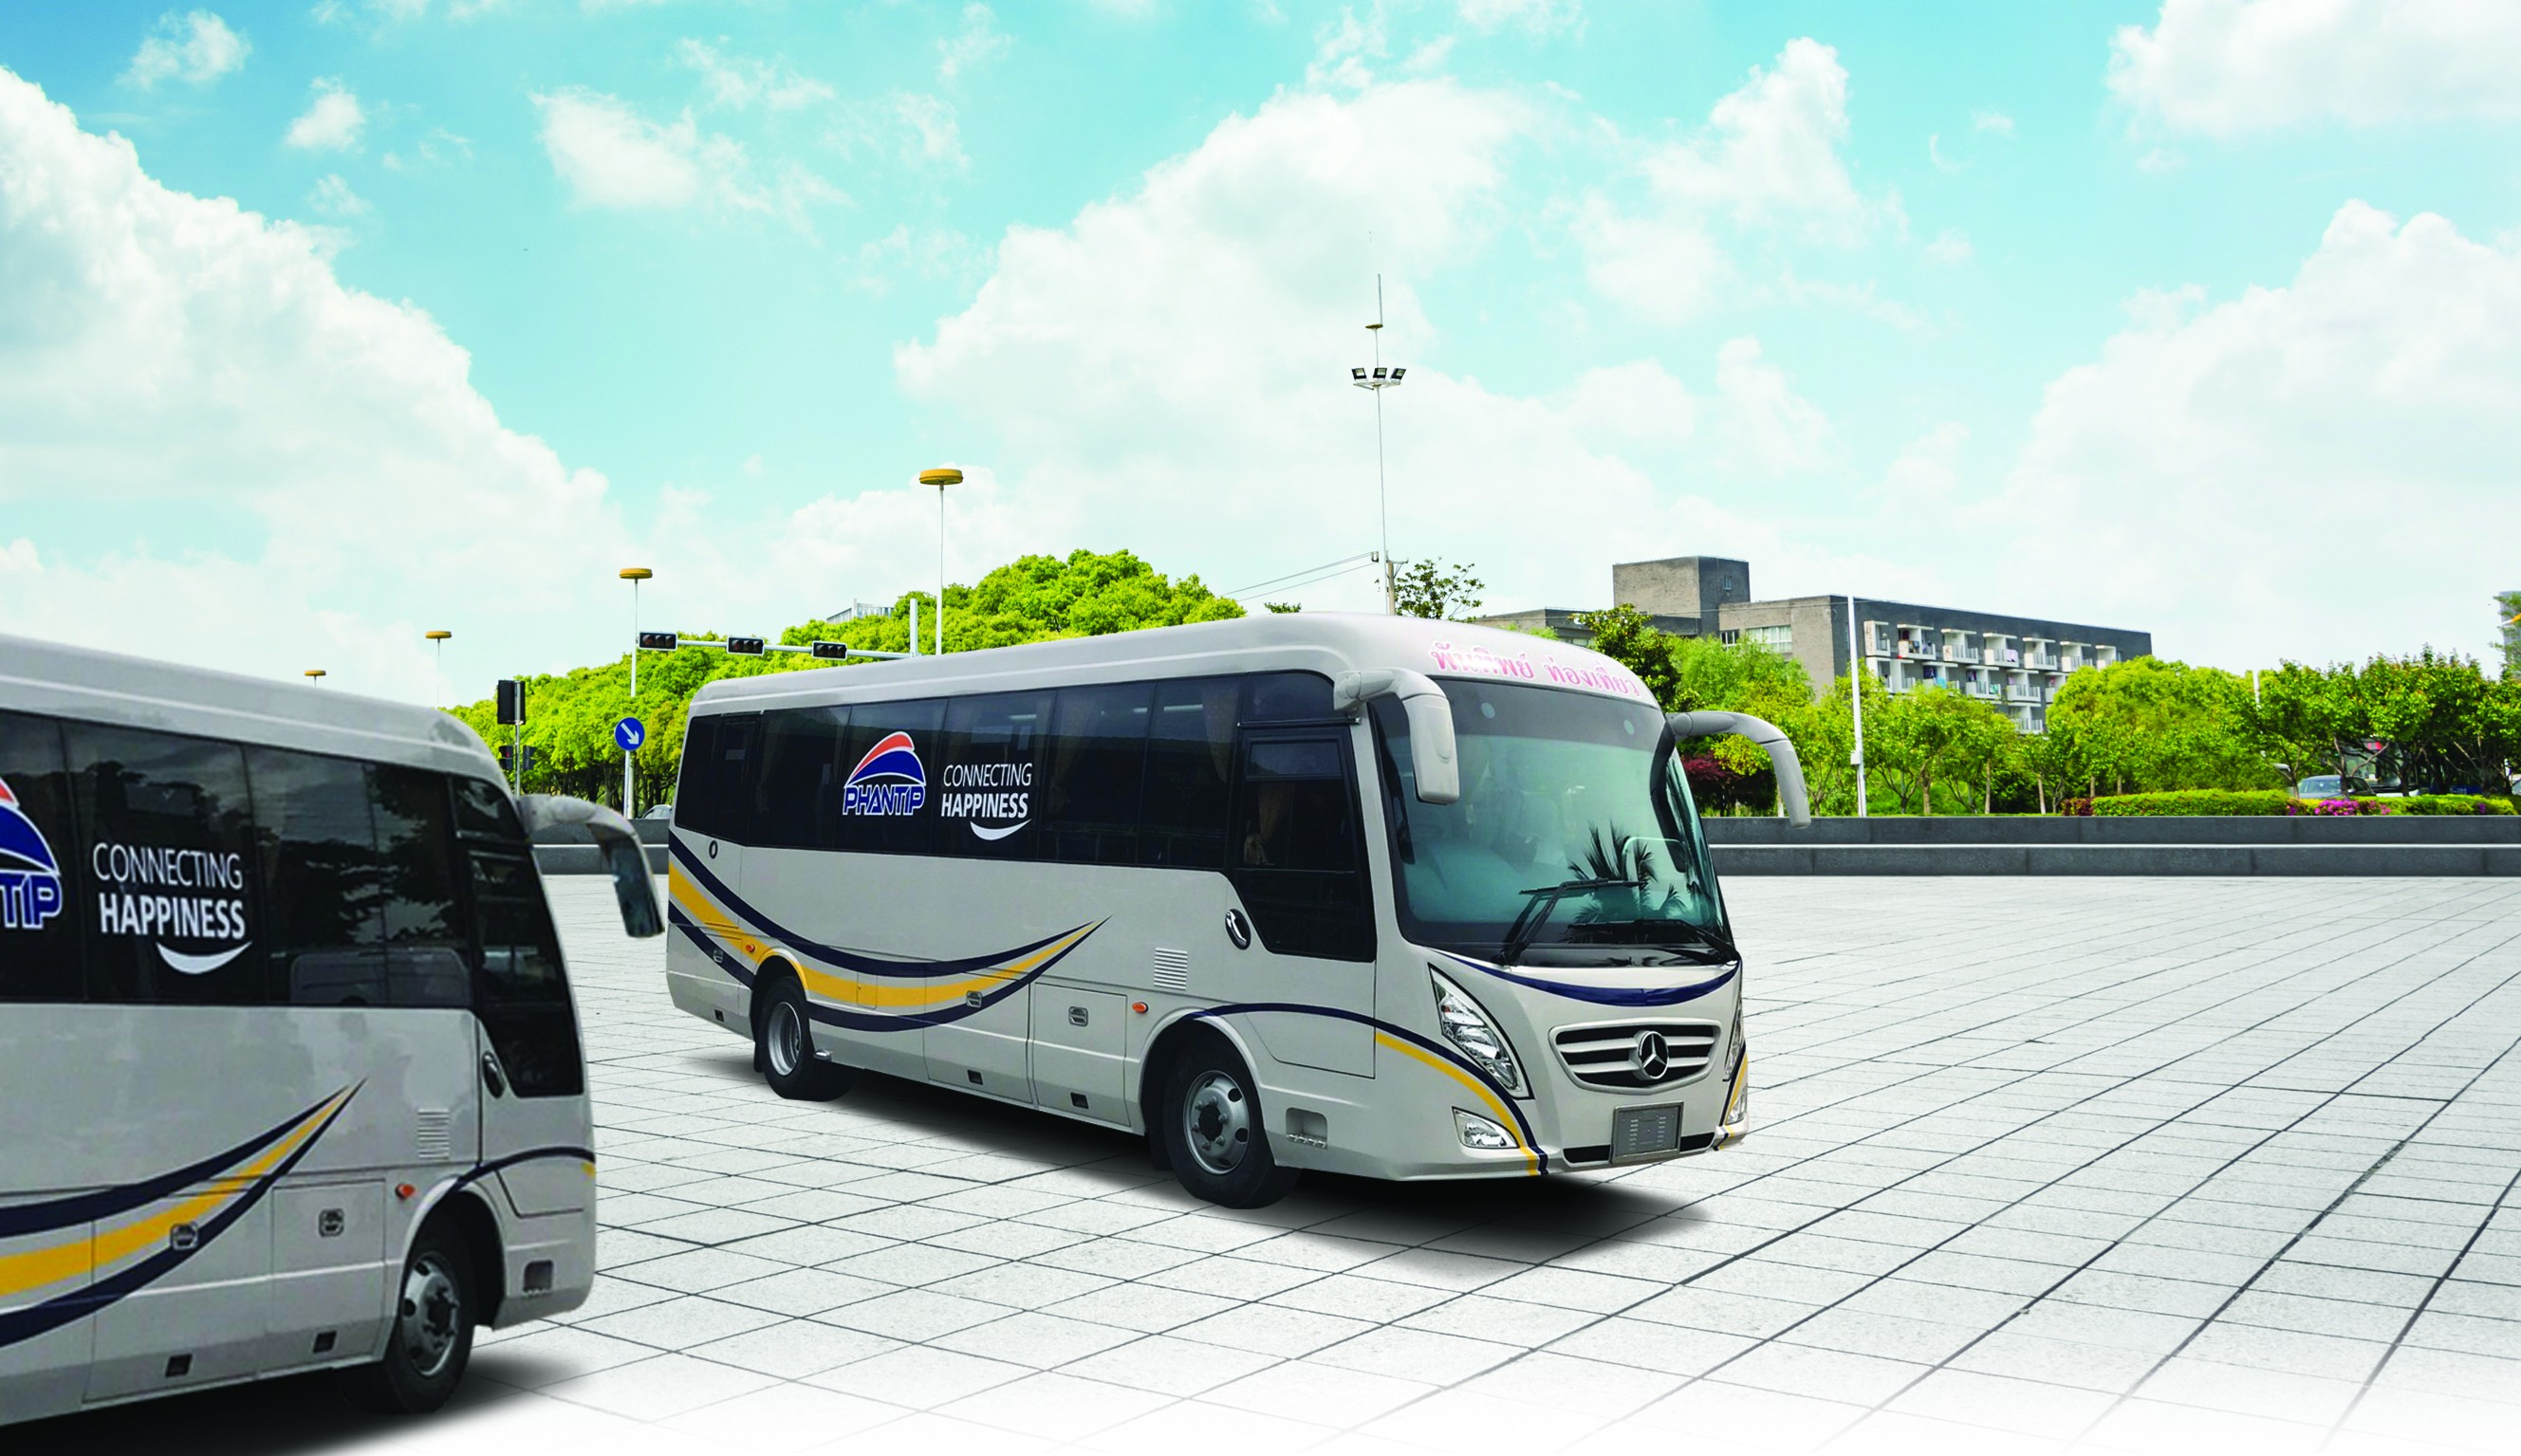bus: (666, 607, 1756, 1203)
